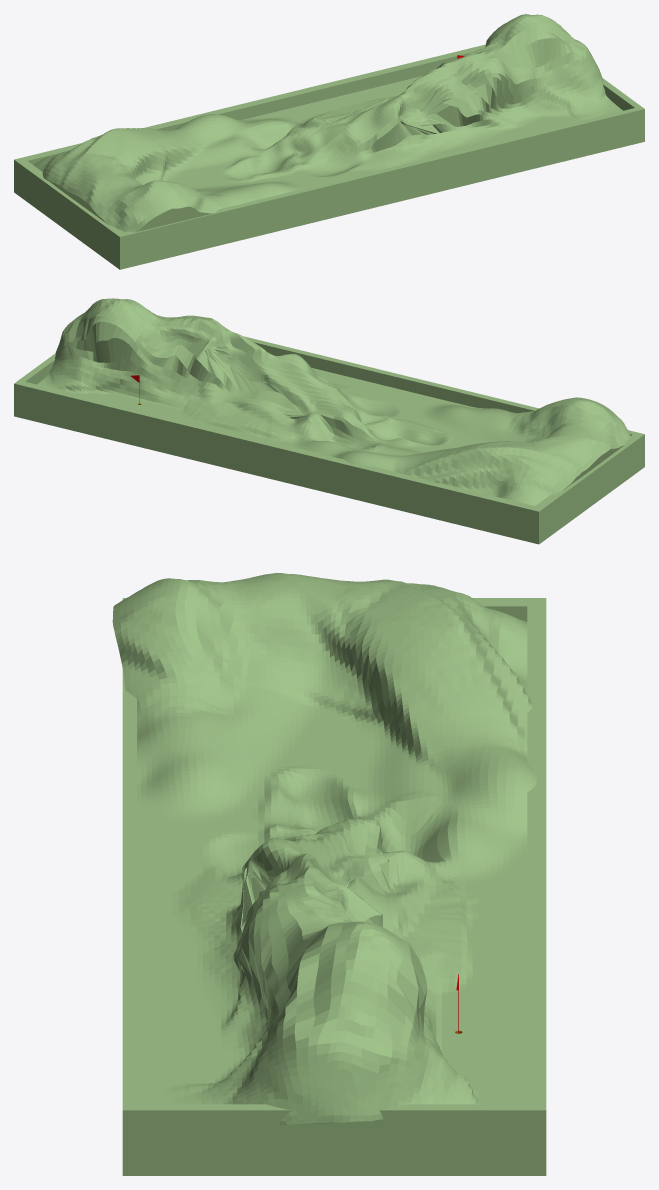
File: level_7.glb
3 views of the same model, one above another, from view 1: azimuth 30°, elevation 25°; view 2: azimuth 150°, elevation 25°; view 3: azimuth 270°, elevation 25° (orthographic). The views are drawn at different scales.
Visible parts, largest first — view 1: green; view 2: green; view 3: green.
Boxes of the visible parts, <box> form: green: <box>14,14,644,269</box>; green: <box>14,298,644,544</box>; green: <box>112,573,546,1175</box>.
Size of the model in its own units: 15.53 by 2.7 by 5.5.
